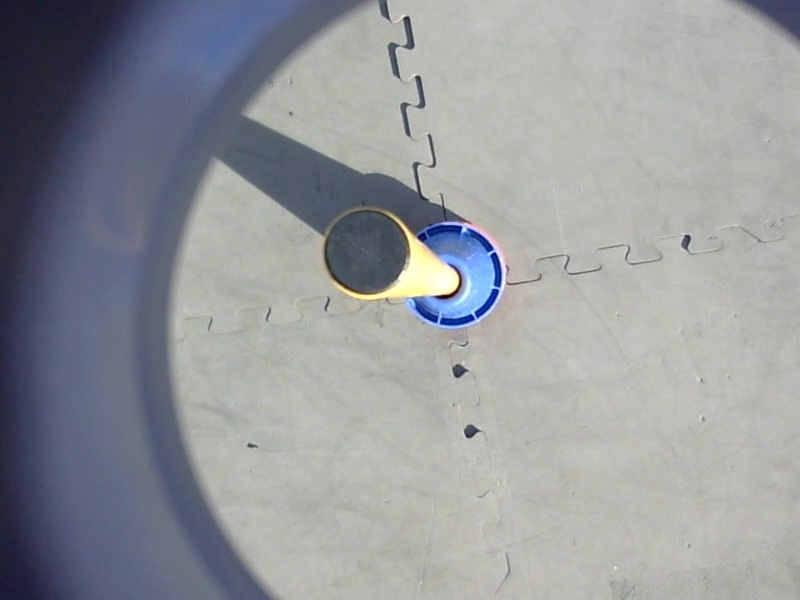tip: (314, 202, 416, 304)
